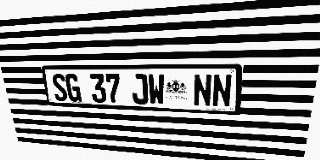3: (89, 74, 107, 103)
7: (104, 74, 122, 103)
G: (64, 74, 82, 102)
J: (131, 74, 148, 105)
N: (212, 74, 232, 108), (193, 74, 212, 107)
S: (51, 74, 68, 101)
W: (147, 74, 165, 105)
